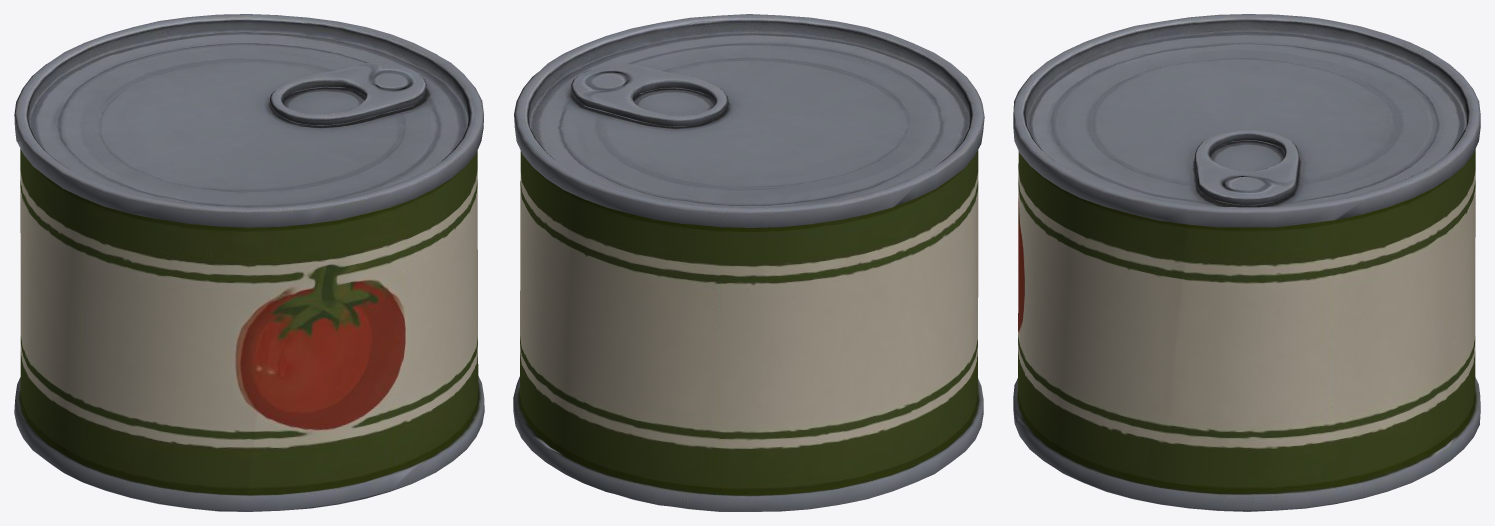
Rendered from canned-food.glb.
3 views of the same model, side by side, from view 1: azimuth 30°, elevation 25°; view 2: azimuth 150°, elevation 25°; view 3: azimuth 270°, elevation 25° (orthographic).
Visible parts, largest first — view 1: canned-food; view 2: canned-food; view 3: canned-food.
Part boxes in pixels (box(x1,y1,x2,y2)): canned-food: box(14, 14, 484, 511); canned-food: box(513, 14, 984, 511); canned-food: box(1013, 14, 1480, 511).
Size of the model in its own units: 0.11 by 0.0787 by 0.11.
1 material, 1 textured.
